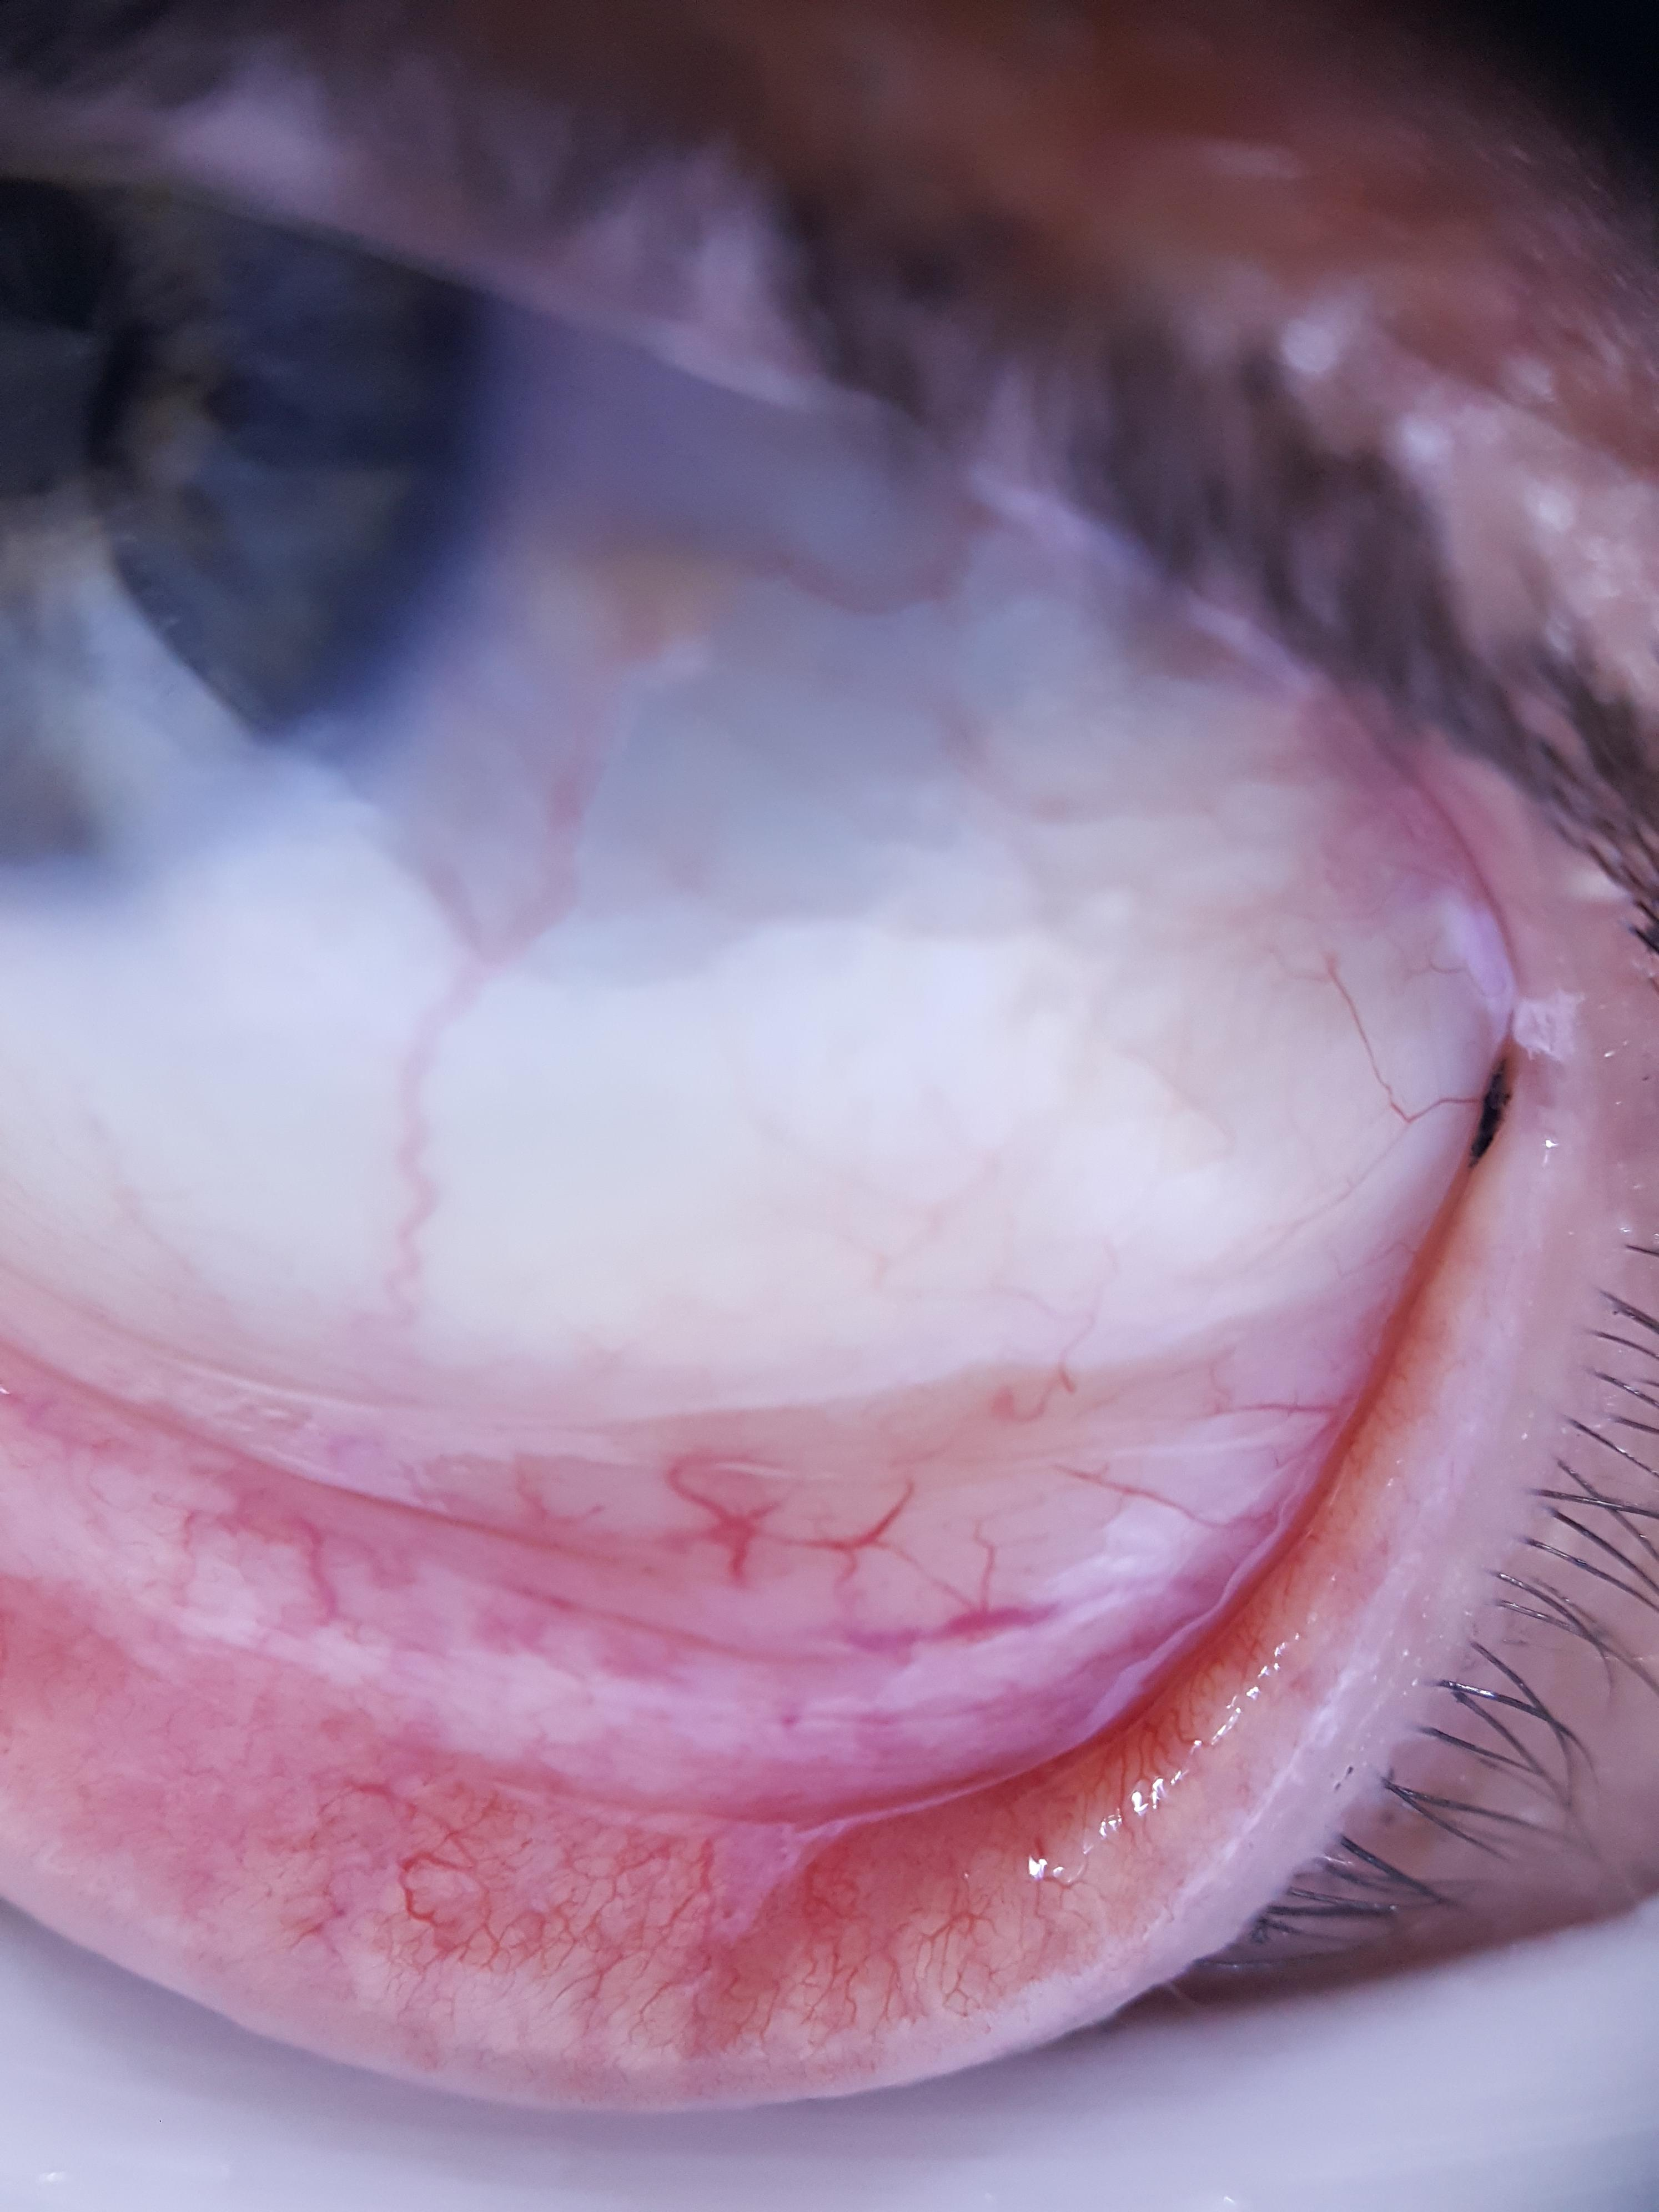forniceal: (10, 1294, 1389, 1804)
forniceal_palpebral: (0, 1305, 1410, 2038)
palpebral: (10, 1393, 1389, 2038)
